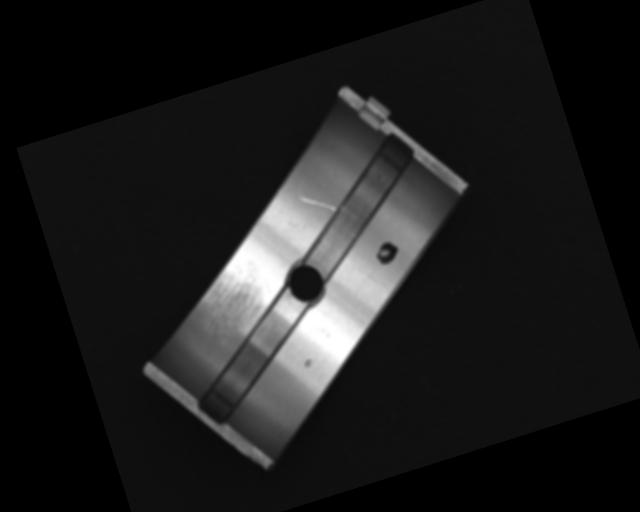blot: (372, 237, 402, 267)
bruise: (303, 357, 314, 368)
gap: (274, 125, 443, 282), (173, 289, 331, 430)
hole: (279, 257, 330, 313)
nick: (297, 186, 337, 221), (357, 258, 387, 295)
scratch: (185, 248, 278, 341)
